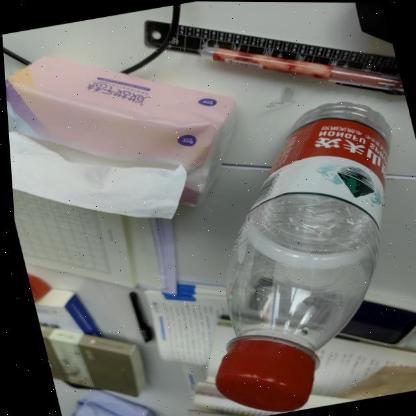Plastic Bottle: (214, 101, 392, 412), (4, 55, 235, 209)
